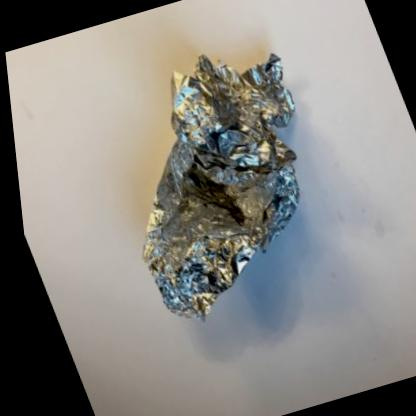Metal: (136, 54, 294, 319)
